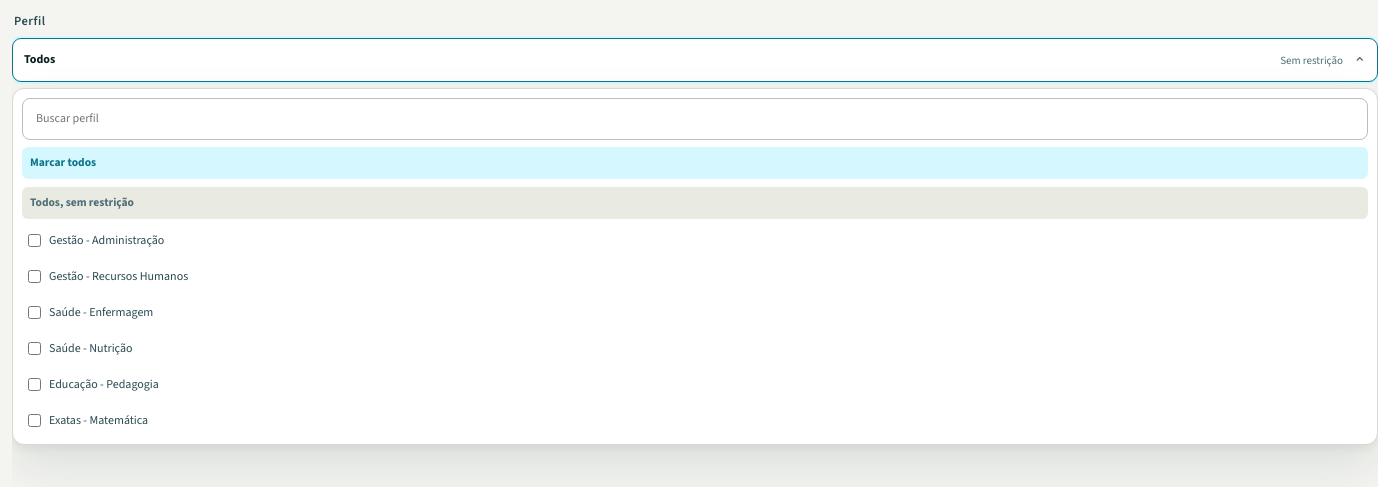
Scenario: MultiSelect › resume a seleção no campo fechado
Expected: the text "Todos" is shown, [24,51,55,68]
Click the checkbox labelled "Saúde - Enfermagem": (34, 312) [28,306,41,319]
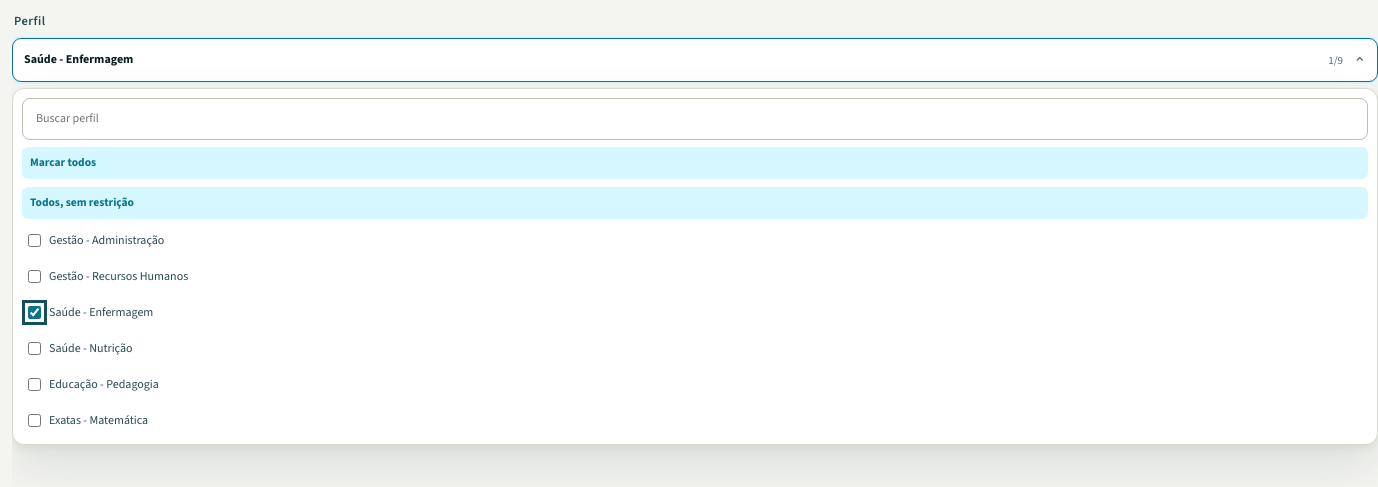
Expected: the heading "Saúde - Enfermagem 1/9" is shown, [12,38,1377,82]
Click the checkbox labelled "Saúde - Nutrição": (34, 348) [28,342,41,355]
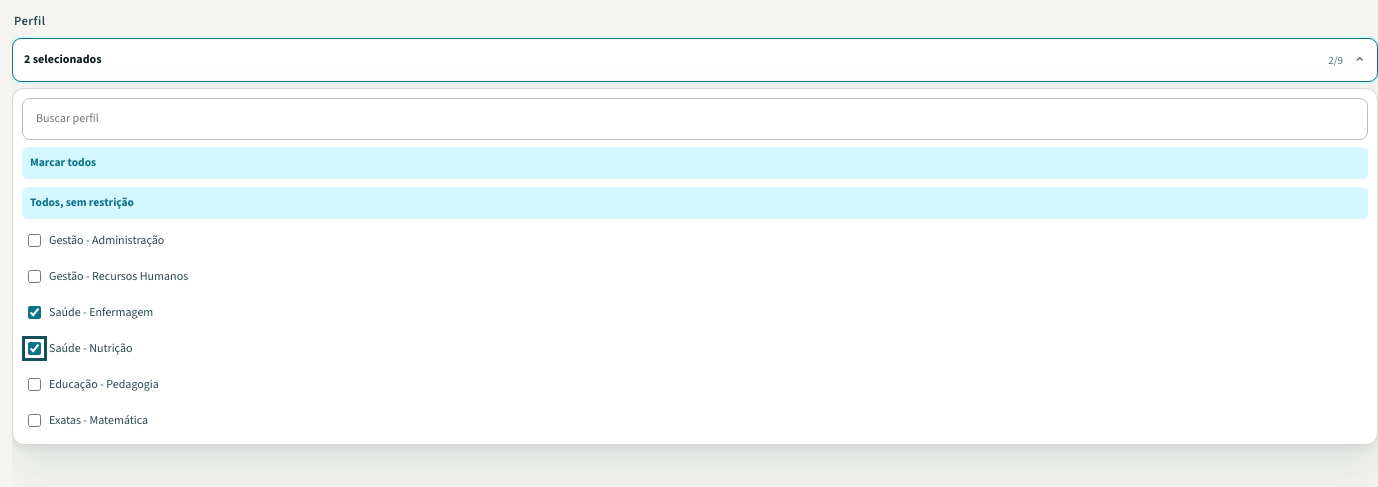
Expected: the heading "2 selecionados 2/9" is shown, [12,38,1377,82]
